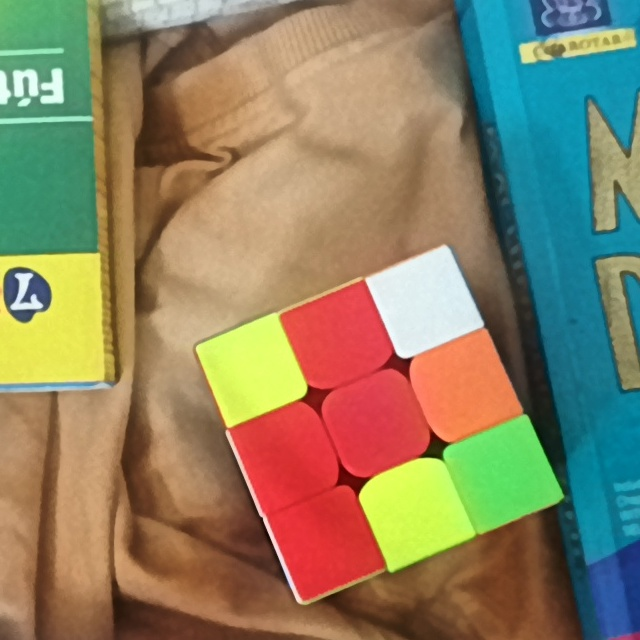tile: (429, 353, 500, 422), (292, 506, 361, 577), (343, 389, 413, 457), (471, 439, 537, 511), (301, 307, 376, 370), (391, 271, 459, 336), (386, 474, 448, 544), (257, 420, 320, 488), (218, 338, 286, 400)
